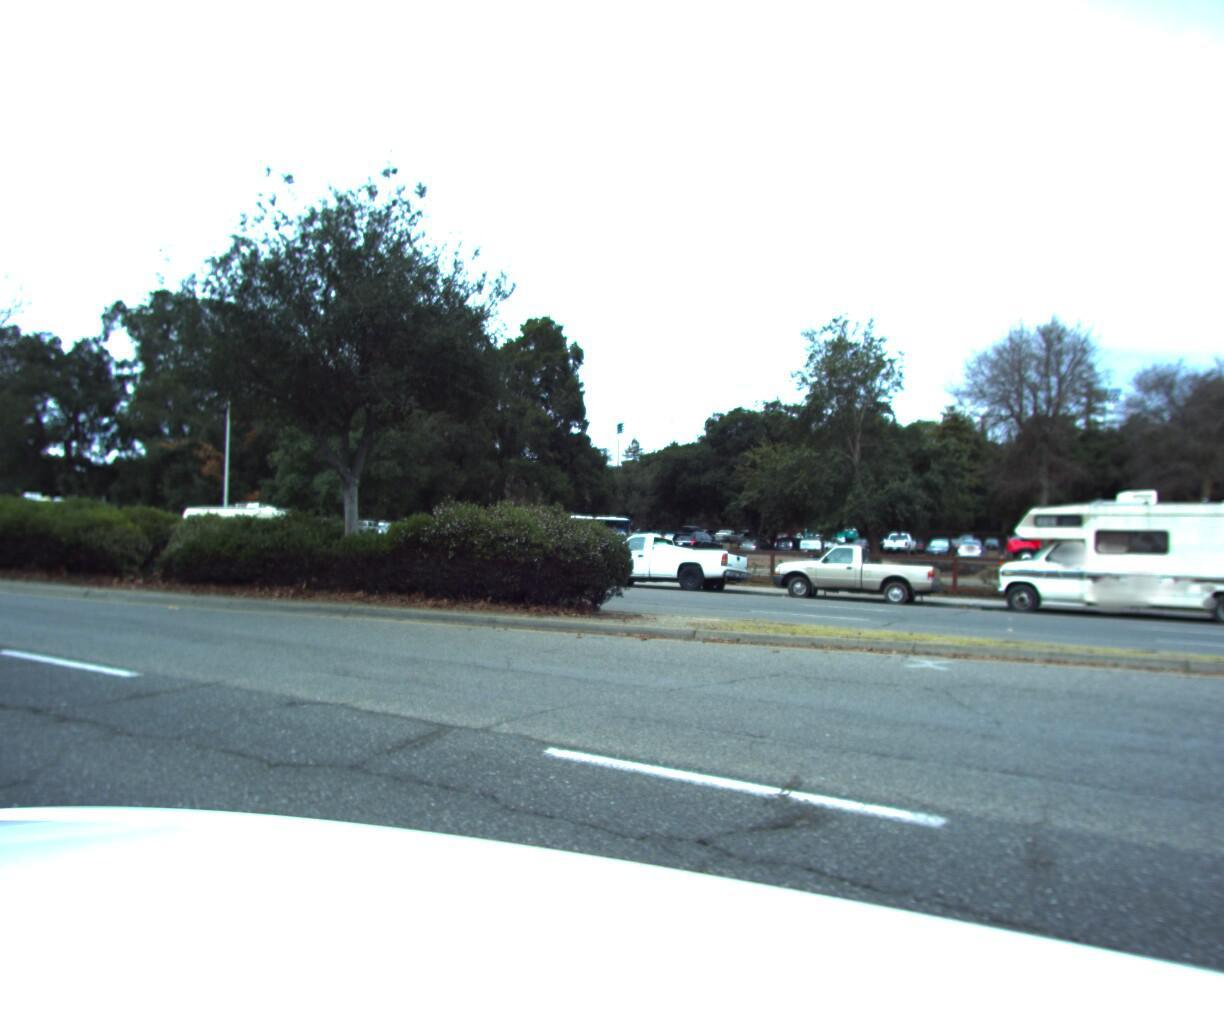car: (572, 524, 757, 592), (766, 535, 945, 602)
other_vehicle: (989, 478, 1224, 635), (164, 498, 306, 561), (0, 486, 91, 550)
